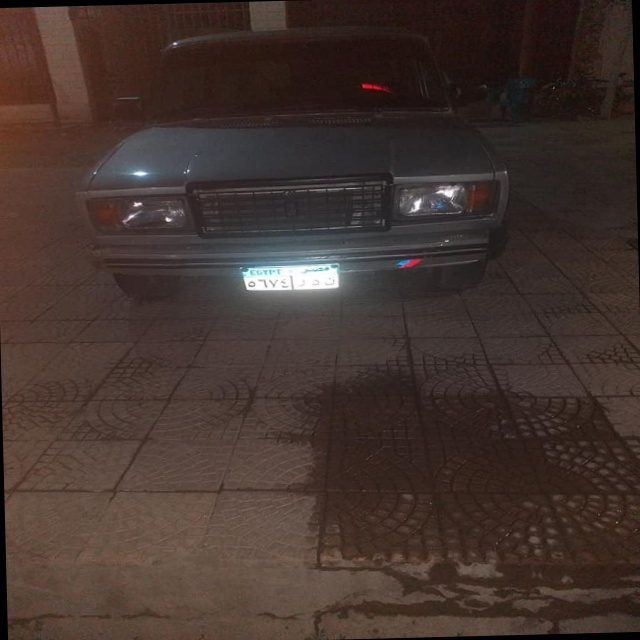License Plate: (238, 261, 341, 293)
